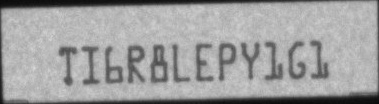1: (310, 38, 330, 79), (263, 40, 283, 79)
6: (105, 45, 123, 83)
8: (149, 43, 169, 83)
E: (196, 41, 214, 83)
G: (288, 40, 306, 79)
I: (81, 46, 100, 84)
L: (172, 44, 191, 82)
P: (217, 42, 237, 80)
R: (128, 44, 145, 84)
T: (58, 46, 78, 86)
Y: (242, 41, 260, 80)
